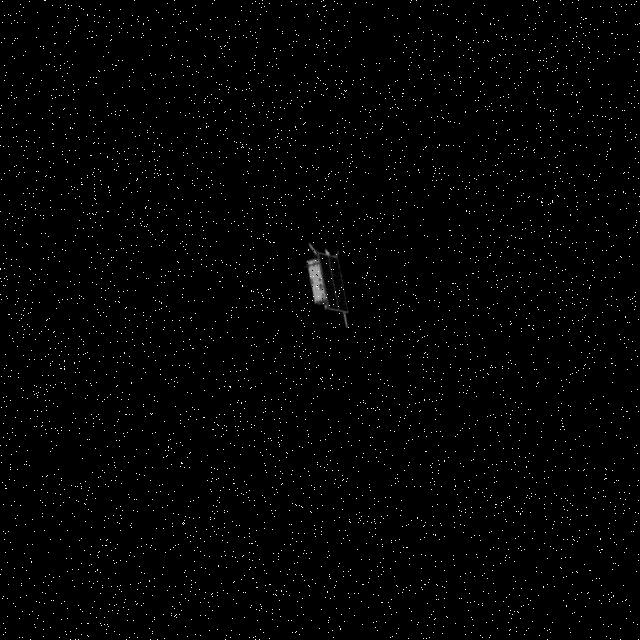satellite: (286, 248, 370, 338)
